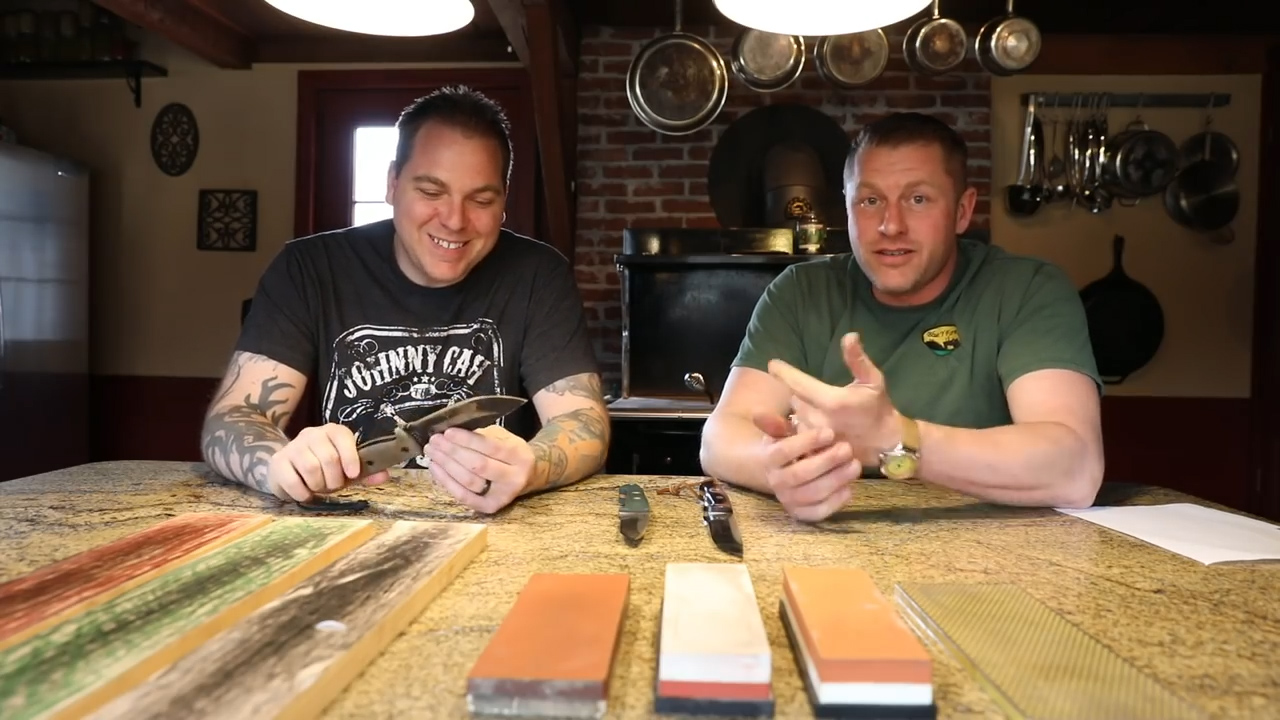knife: (369, 381, 545, 470)
